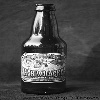beer: (16, 2, 71, 92)
